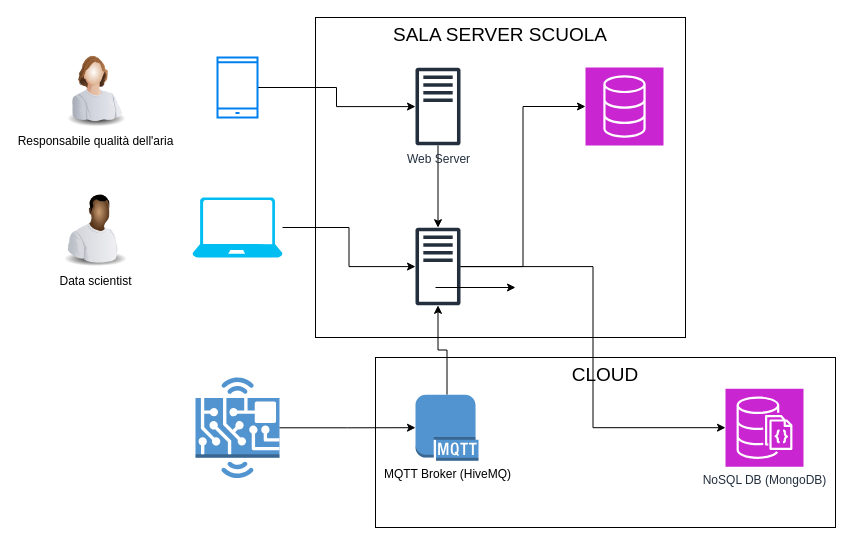
The diagram is 853 pixels wide and 545 high, and some of its shapes have lost their labels. The shapes that lost their labels are listed below. From the top down, each one's box as (x1, y1, x2, y2) in pixels, then its label:
(584, 66, 664, 146): MySQL
(415, 227, 460, 305): Application server (NodeRED)
(194, 376, 280, 478): Weather station
